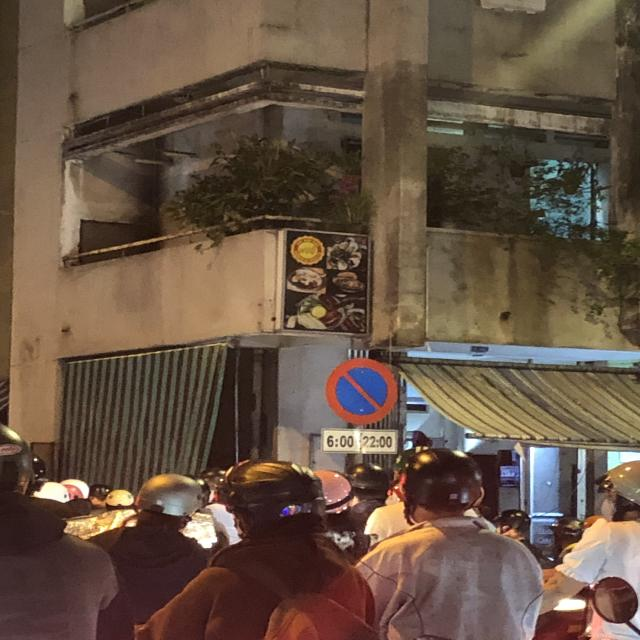Bien bao cam do xe: (318, 354, 406, 426)
